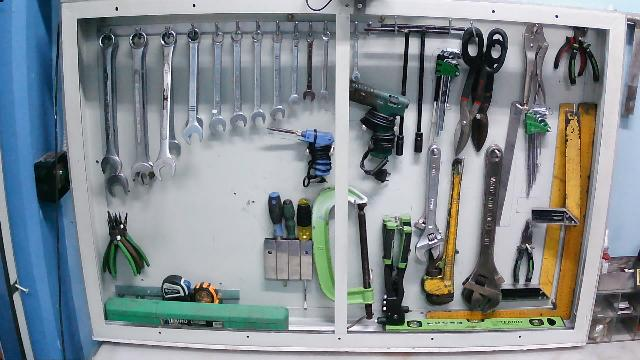solder_electrical: (263, 125, 335, 188)
